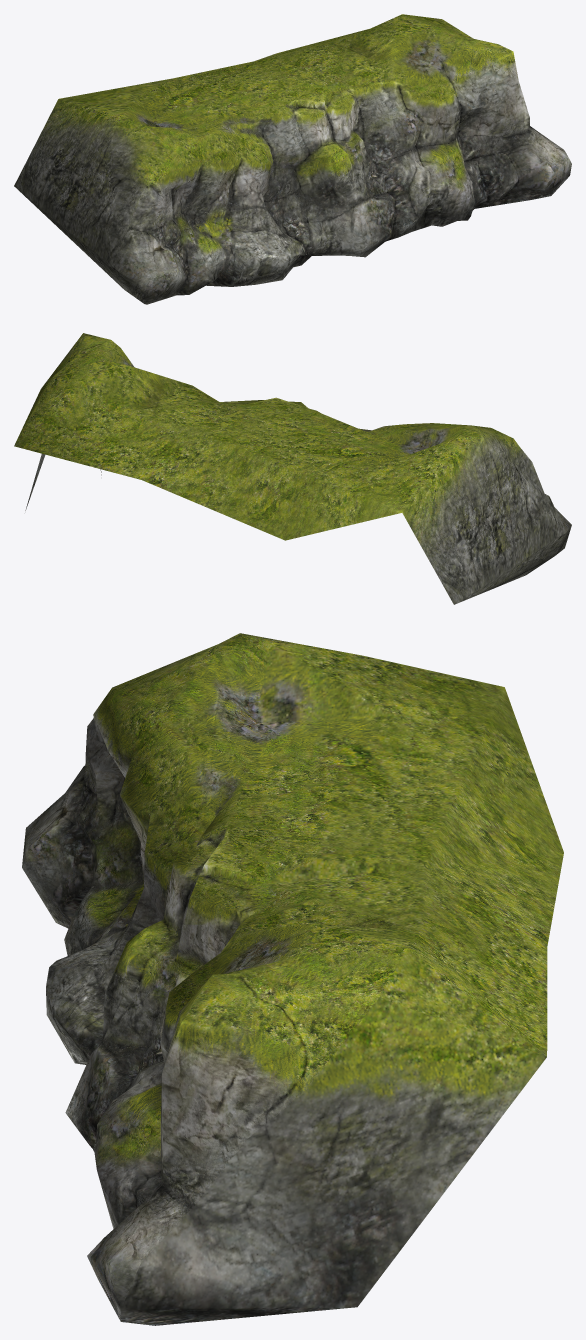
Rendered from cliff.glb.
3 views of the same model, one above another, from view 1: azimuth 30°, elevation 25°; view 2: azimuth 150°, elevation 25°; view 3: azimuth 270°, elevation 25° (orthographic). The views are drawn at different scales.
Parts seen in each view (by area): view 1: Object_2; view 2: Object_2; view 3: Object_2.
Boxes of the visible parts, box(x1,y1,x2,y2) form: Object_2: box(14, 14, 571, 304); Object_2: box(14, 333, 571, 604); Object_2: box(22, 633, 563, 1325).
Size of the model in its own units: 31.62 by 11.08 by 16.07.
Materials: 1 (1 with a texture image).
